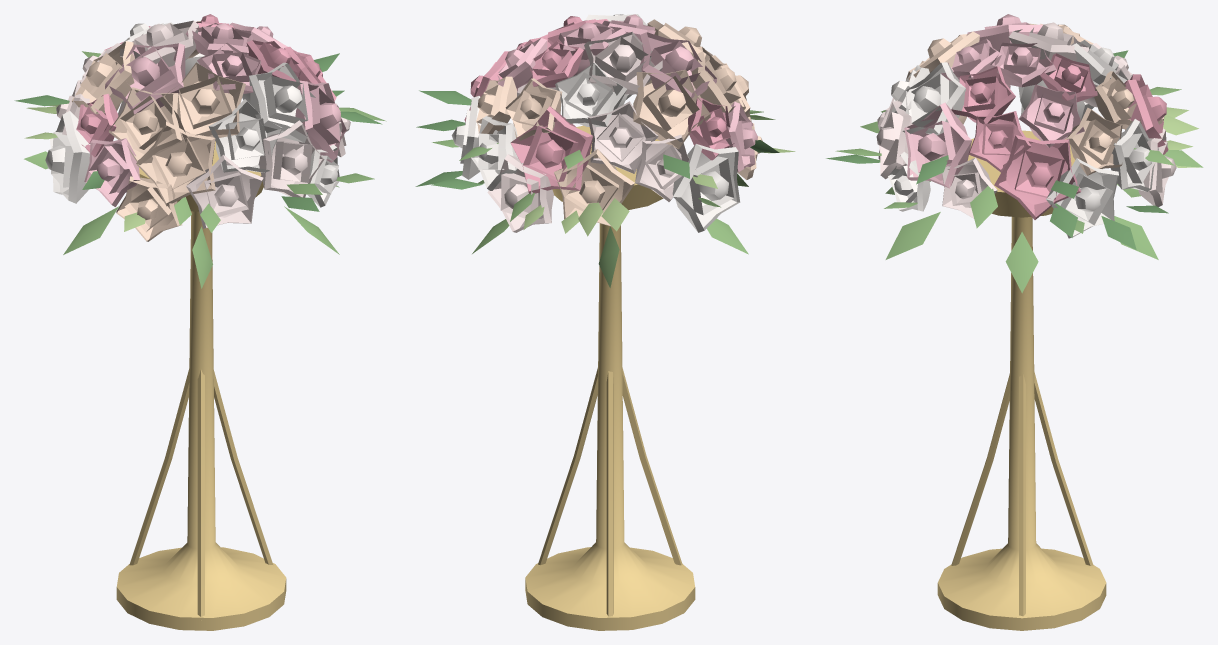
Rendered from flower-stand.glb.
The picture shows the model from 3 angles, left to right: view 1: azimuth 30°, elevation 25°; view 2: azimuth 150°, elevation 25°; view 3: azimuth 270°, elevation 25°; orthographic projection.
Visible parts, largest first — view 1: flower-stand; view 2: flower-stand; view 3: flower-stand.
Part boxes in pixels (box(x1,y1,x2,y2)): flower-stand: box(14, 14, 386, 630); flower-stand: box(415, 14, 795, 630); flower-stand: box(826, 14, 1203, 630).
Size of the model in its own units: 0.7621 by 1.31 by 0.8081.
